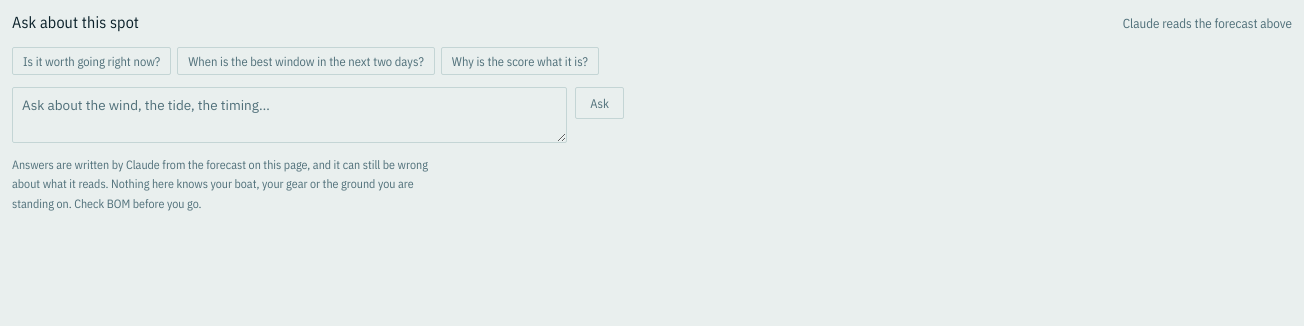
Scenario: SpotChat › shows the answer as it streams in
Type "Worth going?" into the text box named "Ask a question about this spot" at [290, 115], box left=12, top=87, right=567, bottom=143
Then press Enter
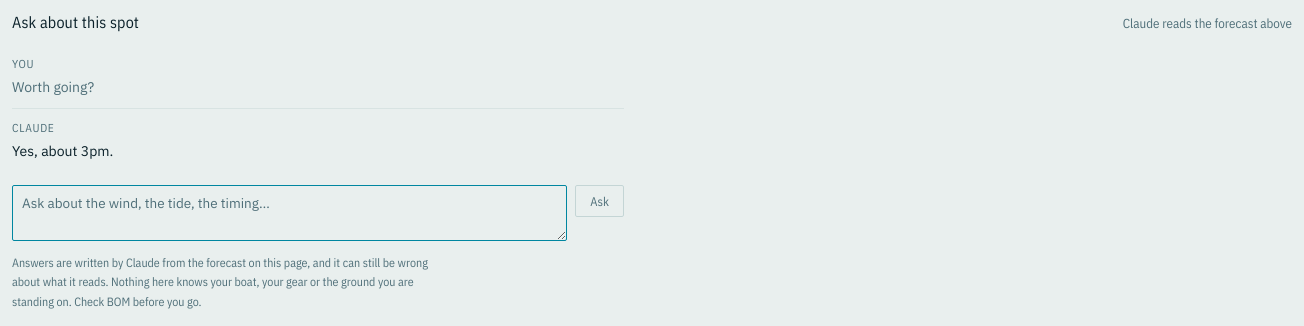
Now the text "Yes, about 3pm." is shown, box left=12, top=142, right=113, bottom=160
